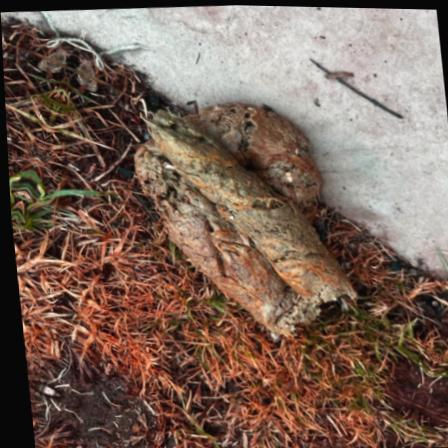dog-poop: (106, 73, 355, 340)
